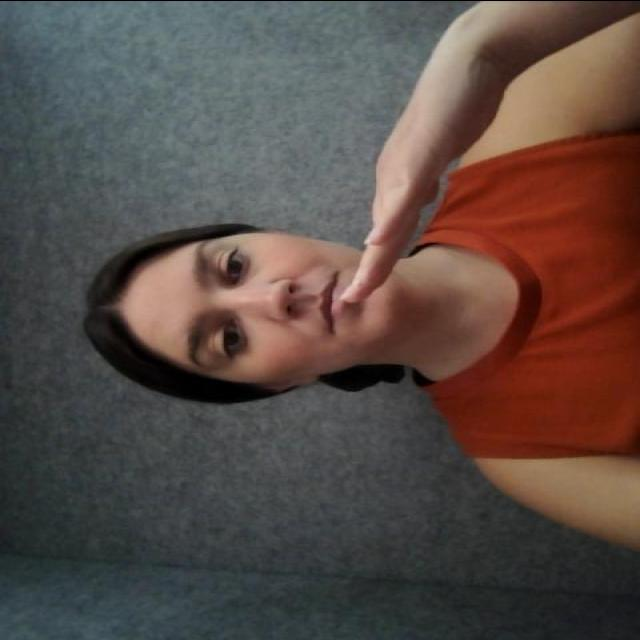Paper: (346, 56, 600, 387)
